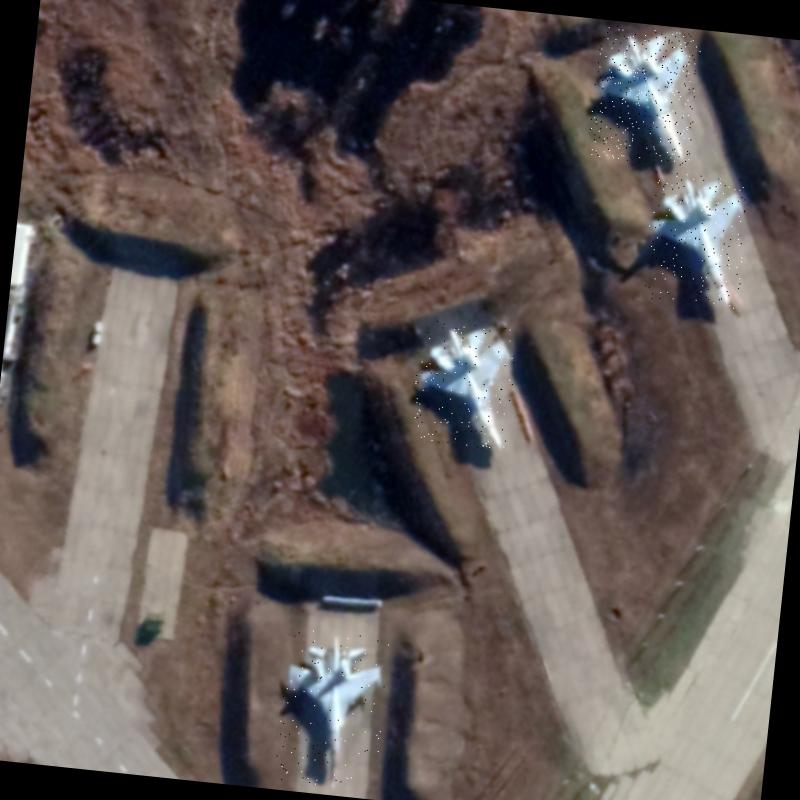A1: (274, 628, 391, 790), (586, 24, 702, 167), (641, 170, 751, 308), (409, 319, 518, 450)
